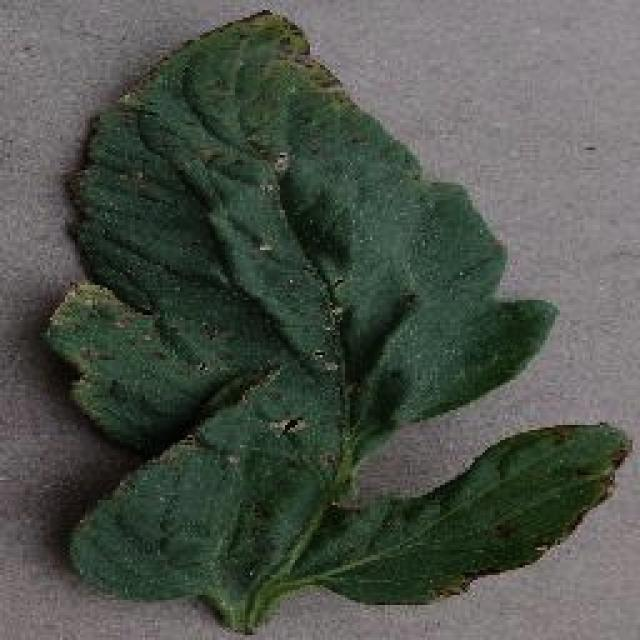Tomato bacterial spot leaf: (37, 1, 640, 606)
